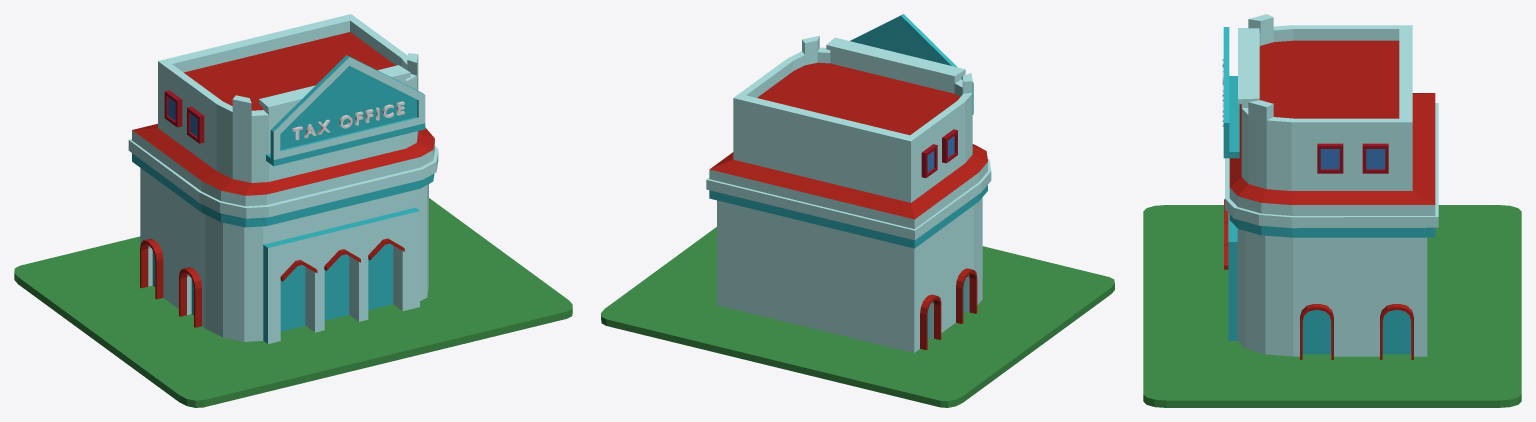
The model's file is tax_office.fbx.
3 renders of one model, left to right at view 1: azimuth 30°, elevation 25°; view 2: azimuth 150°, elevation 25°; view 3: azimuth 270°, elevation 25°, orthographic. The views are drawn at different scales.
Parts seen in each view (by area): view 1: Cube, Plane, Cube.010, Cube.051, Text.001, Cube.050, Cube.006, Cube.005; view 2: Cube, Plane, Cube.010, Cube.050, Cube.051, Cube.006; view 3: Cube, Plane, Cube.010, Cube.003, Cube.004, Cube.007, Cube.053.
Part boxes in pixels (<box>): Cube: <box>128,14,438,343</box>; Plane: <box>14,198,572,407</box>; Cube.010: <box>266,55,425,166</box>; Cube.051: <box>140,239,163,299</box>; Text.001: <box>292,101,404,140</box>; Cube.050: <box>179,267,201,327</box>; Cube.006: <box>164,90,182,127</box>; Cube.005: <box>187,106,204,143</box>; Cube: <box>706,36,991,352</box>; Plane: <box>601,227,1114,407</box>; Cube.010: <box>850,14,973,114</box>; Cube.050: <box>956,268,977,323</box>; Cube.051: <box>920,294,941,350</box>; Cube.006: <box>921,144,937,178</box>; Cube: <box>1225,14,1438,356</box>; Plane: <box>1143,205,1521,407</box>; Cube.010: <box>1223,27,1239,158</box>; Cube.003: <box>1317,143,1343,173</box>; Cube.004: <box>1362,143,1388,173</box>; Cube.007: <box>1380,304,1413,359</box>; Cube.053: <box>1300,304,1333,359</box>.
Size of the model in its own units: 28.74 by 19.52 by 23.49.
